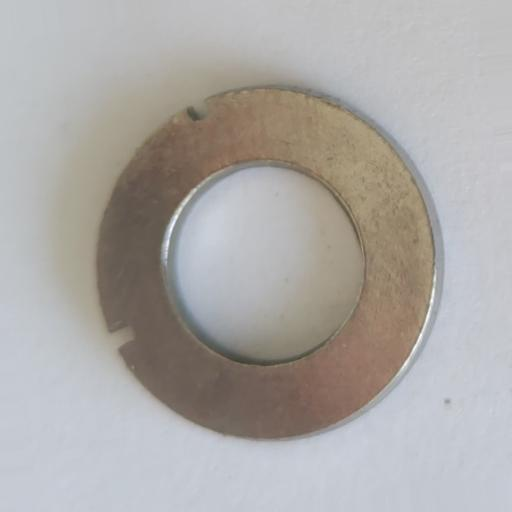burr: (108, 321, 139, 351), (186, 99, 213, 124)
